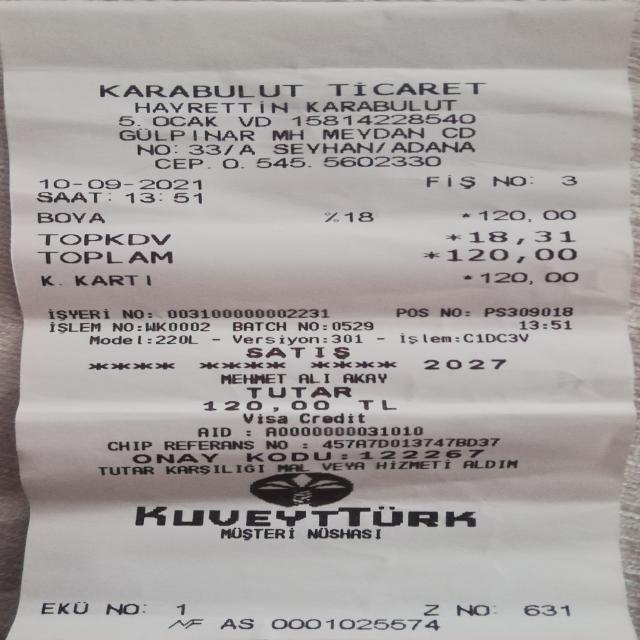text: (134, 503, 474, 529), (99, 82, 303, 98), (328, 81, 484, 96), (447, 247, 577, 264), (271, 617, 439, 630), (39, 177, 201, 190), (166, 306, 328, 319), (291, 114, 475, 125), (321, 437, 500, 448), (36, 250, 171, 264), (134, 101, 288, 113), (305, 100, 456, 112), (118, 128, 255, 141), (37, 233, 170, 245), (470, 230, 576, 245), (264, 425, 422, 435), (480, 270, 580, 284), (359, 448, 484, 459), (480, 208, 578, 222), (322, 155, 439, 166), (245, 385, 351, 397), (202, 400, 329, 410), (246, 346, 349, 358), (322, 127, 424, 139), (272, 141, 366, 154), (163, 438, 253, 451), (125, 190, 200, 205), (484, 306, 577, 318), (423, 357, 505, 370), (394, 140, 474, 153), (220, 526, 293, 540), (307, 526, 380, 540), (164, 464, 264, 474), (36, 190, 105, 204), (132, 452, 218, 463), (246, 450, 332, 461), (46, 306, 109, 321), (74, 274, 150, 286), (235, 333, 317, 344), (425, 173, 475, 190), (299, 411, 363, 424), (36, 211, 104, 223), (151, 115, 217, 127), (374, 460, 451, 470), (41, 599, 87, 615), (220, 372, 286, 383), (463, 332, 528, 343), (462, 458, 518, 470), (256, 156, 310, 168), (524, 603, 569, 617), (98, 465, 154, 476), (90, 334, 145, 345), (153, 157, 203, 169), (106, 439, 151, 452), (48, 321, 101, 332), (232, 320, 285, 331), (242, 411, 286, 424), (397, 334, 452, 344), (146, 322, 213, 330), (395, 304, 428, 319), (342, 372, 386, 383), (492, 173, 522, 189), (157, 333, 197, 345), (106, 600, 136, 616), (518, 319, 571, 328), (270, 127, 304, 141), (455, 603, 491, 616), (357, 398, 395, 410), (188, 142, 220, 156), (323, 461, 363, 472), (441, 126, 474, 139), (238, 114, 270, 127), (278, 461, 312, 473), (136, 143, 166, 156), (220, 617, 252, 629), (334, 320, 372, 330), (171, 618, 204, 629), (333, 333, 365, 344), (196, 426, 231, 436), (298, 372, 329, 383), (116, 114, 140, 128), (439, 304, 461, 319), (120, 306, 142, 320), (264, 437, 286, 450), (344, 211, 372, 221), (221, 156, 243, 168), (561, 172, 576, 189), (423, 247, 438, 264), (445, 230, 461, 245), (41, 274, 61, 286), (111, 321, 131, 332), (298, 320, 318, 330), (238, 142, 253, 155), (423, 603, 438, 616), (324, 211, 338, 222), (462, 272, 472, 285), (525, 172, 533, 188), (176, 601, 184, 616), (223, 142, 232, 155), (169, 142, 177, 156), (379, 140, 387, 154), (211, 333, 220, 345), (463, 304, 470, 319), (144, 306, 151, 320), (454, 332, 462, 344), (460, 212, 472, 220), (104, 191, 111, 204), (147, 334, 156, 344), (322, 333, 330, 344), (322, 320, 330, 330), (377, 333, 384, 344), (340, 449, 346, 461), (136, 320, 142, 331), (246, 426, 251, 436), (207, 156, 208, 169)
